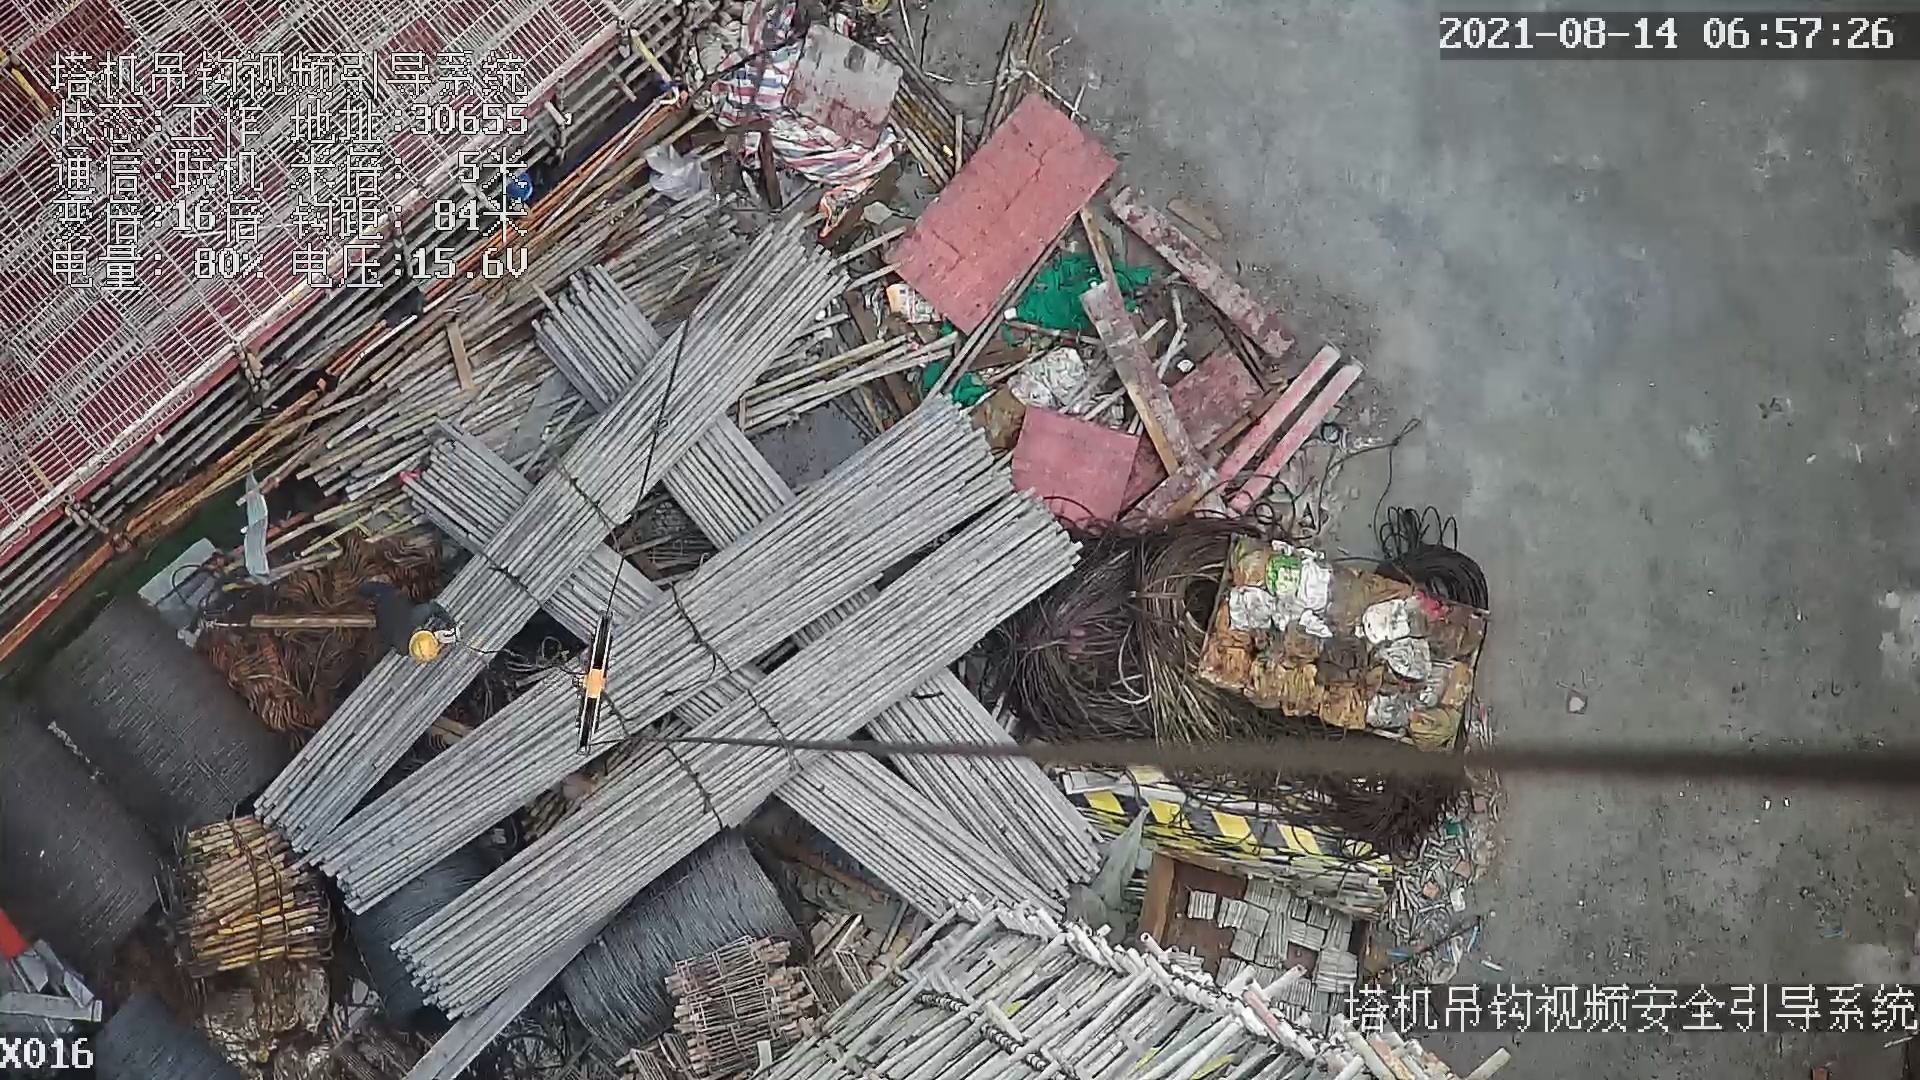helmet: (408, 630, 439, 661)
hook: (572, 610, 620, 751)
person: (355, 574, 464, 665)
rebar: (248, 214, 846, 865), (301, 393, 1009, 912), (392, 493, 1082, 1023), (762, 739, 1062, 916), (871, 668, 1101, 900)
wood: (175, 815, 329, 979)
